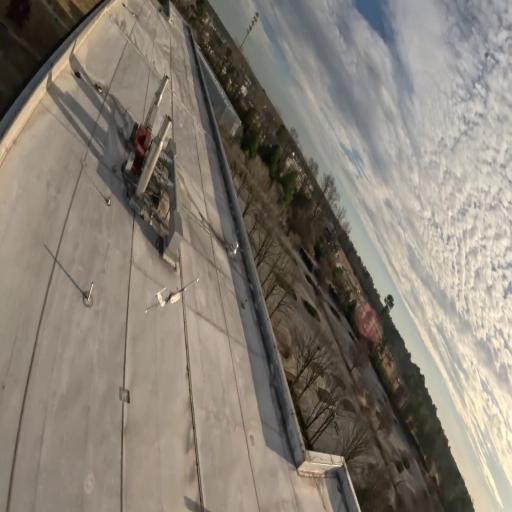uav: (142, 270, 201, 318)
